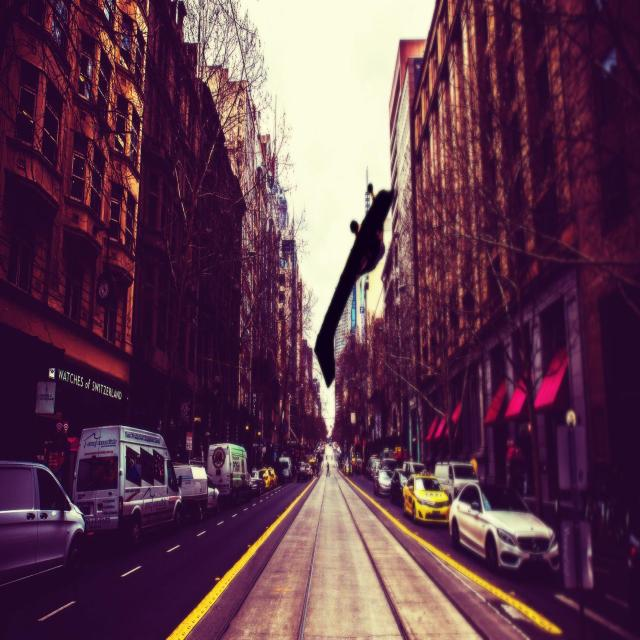airplane: (314, 179, 396, 388)
